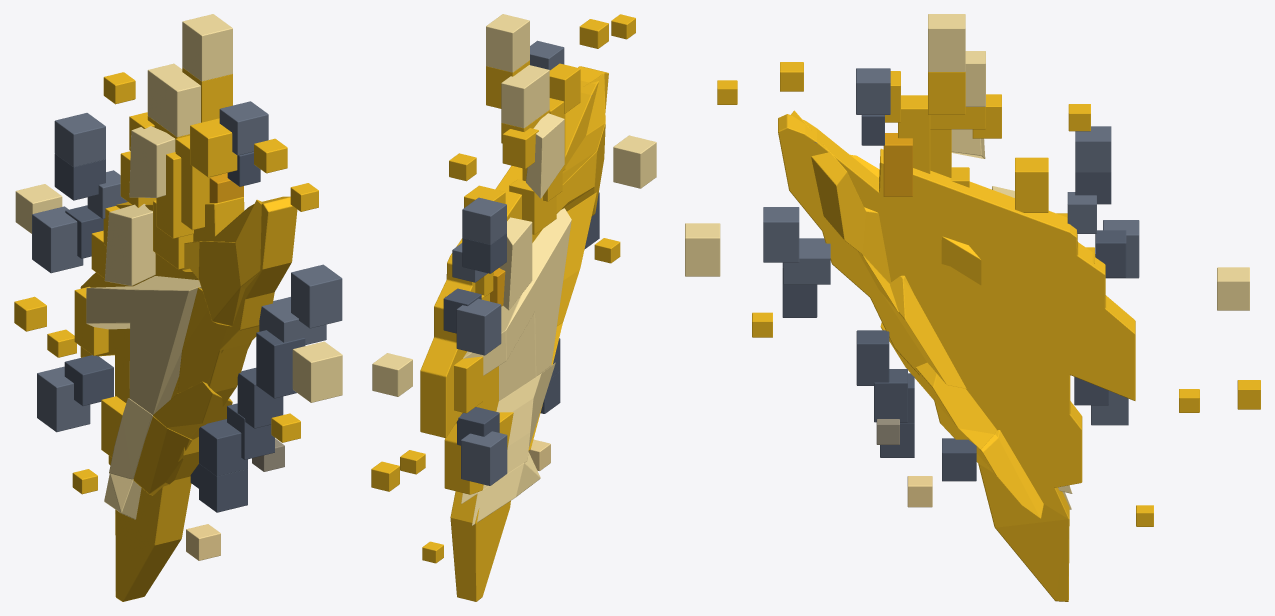
Rendered from SM_Blender_Storm.glb.
The picture shows the model from 3 angles, left to right: view 1: azimuth 30°, elevation 25°; view 2: azimuth 150°, elevation 25°; view 3: azimuth 270°, elevation 25°; orthographic projection. The views are drawn at different scales.
Parts seen in each view (by area): view 1: SM_Blender_Storm; view 2: SM_Blender_Storm; view 3: SM_Blender_Storm.
Part boxes in pixels (x1,y1,x2,y2): SM_Blender_Storm: (14,14,342,601); SM_Blender_Storm: (371,14,656,601); SM_Blender_Storm: (685,14,1260,601).
Size of the model in its own units: 0.289 by 1.46 by 1.3.
Materials: 2 (2 with a texture image).
